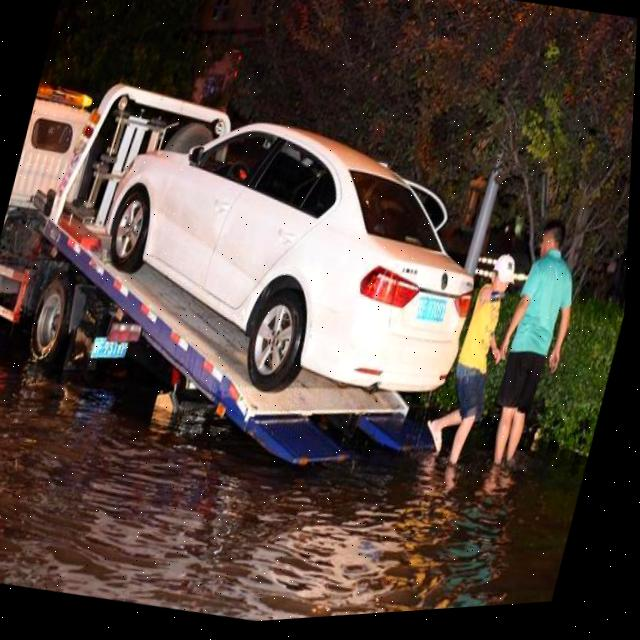civilian: (468, 215, 600, 500), (421, 237, 536, 484)
